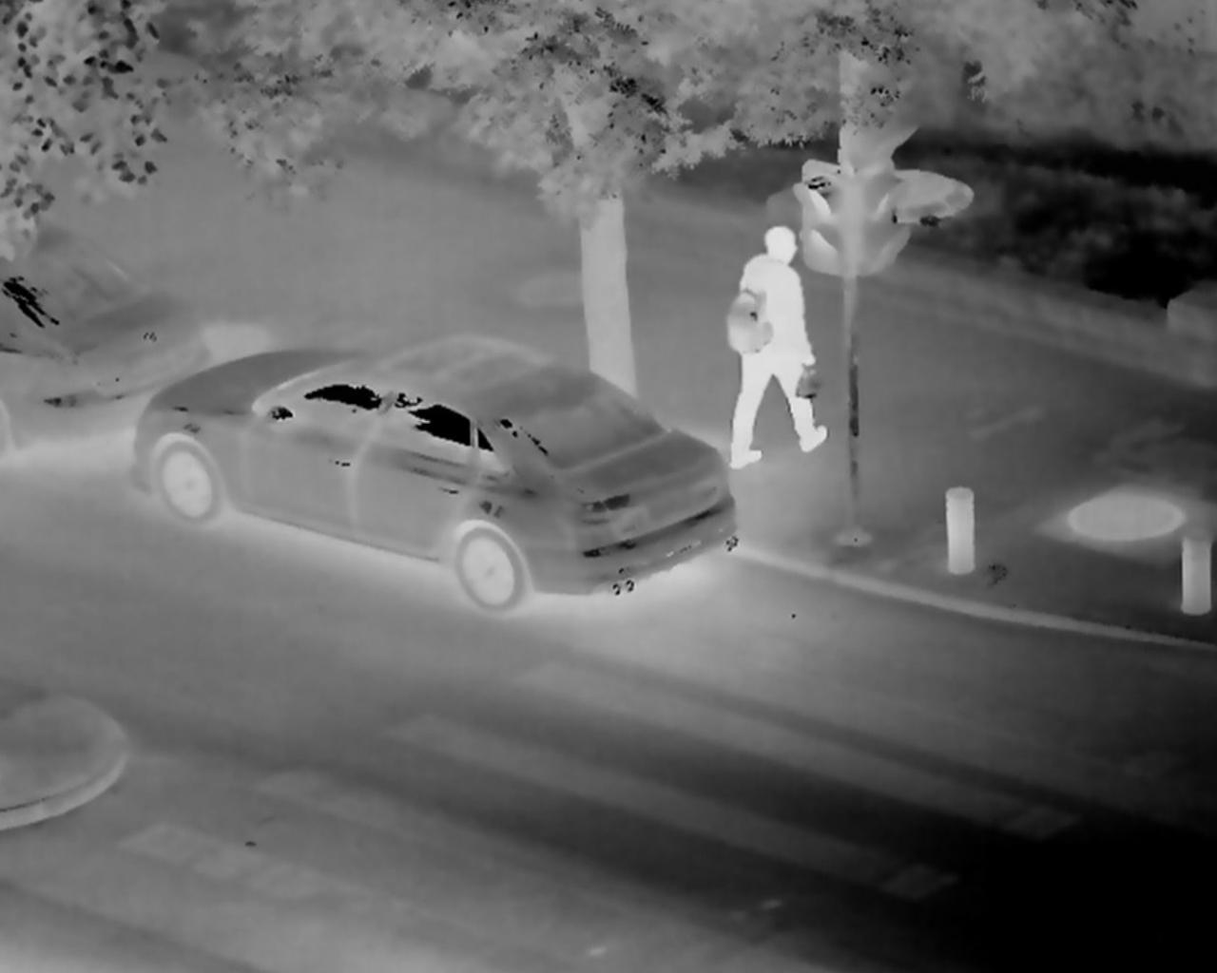person: (715, 224, 836, 471)
